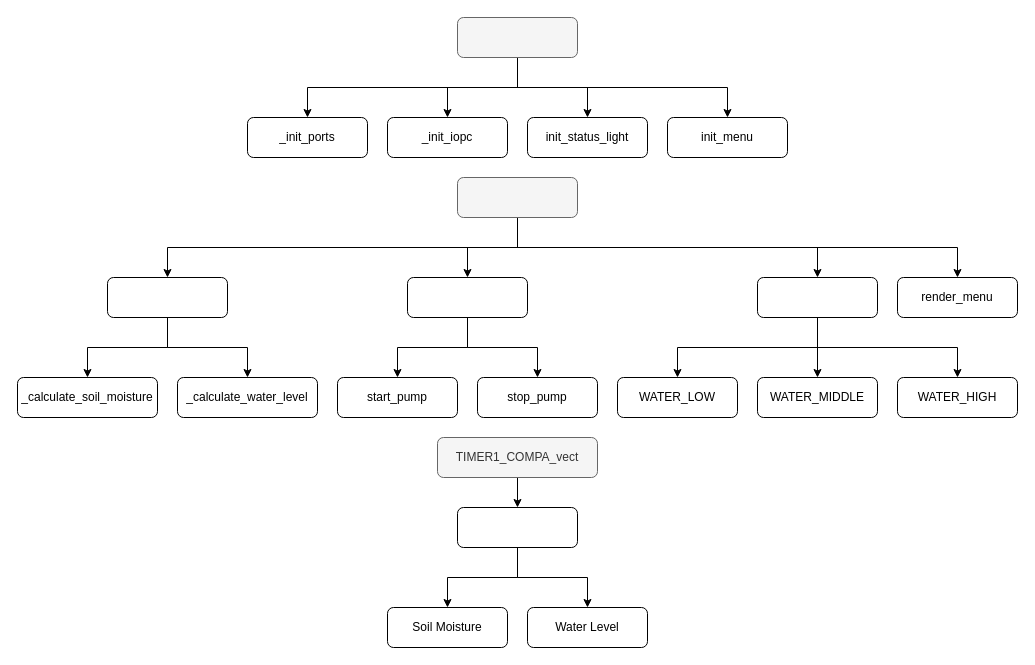
Some shapes in this 1035 by 665 pixel diagram are drawn without their labels. The box of each missing label's shape, as (x1, y1, x2, y2) in pixels:
_change_ports: (456, 506, 578, 548)
_handle_calculation: (106, 276, 228, 318)
_handle_pump: (406, 276, 528, 318)
_handle_status: (756, 276, 878, 318)
ADC_vect: (456, 176, 578, 218)
main: (456, 16, 578, 58)
